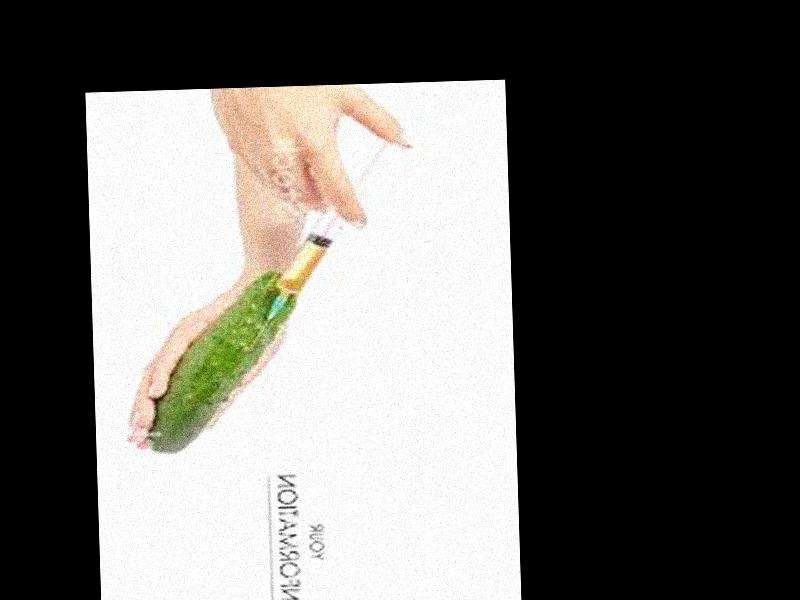Cucumber: (145, 272, 306, 452)
